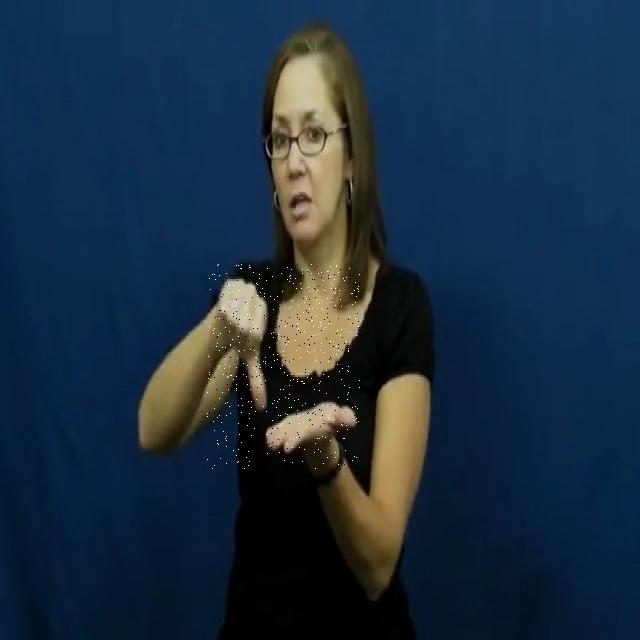sauce: (207, 264, 360, 470)
